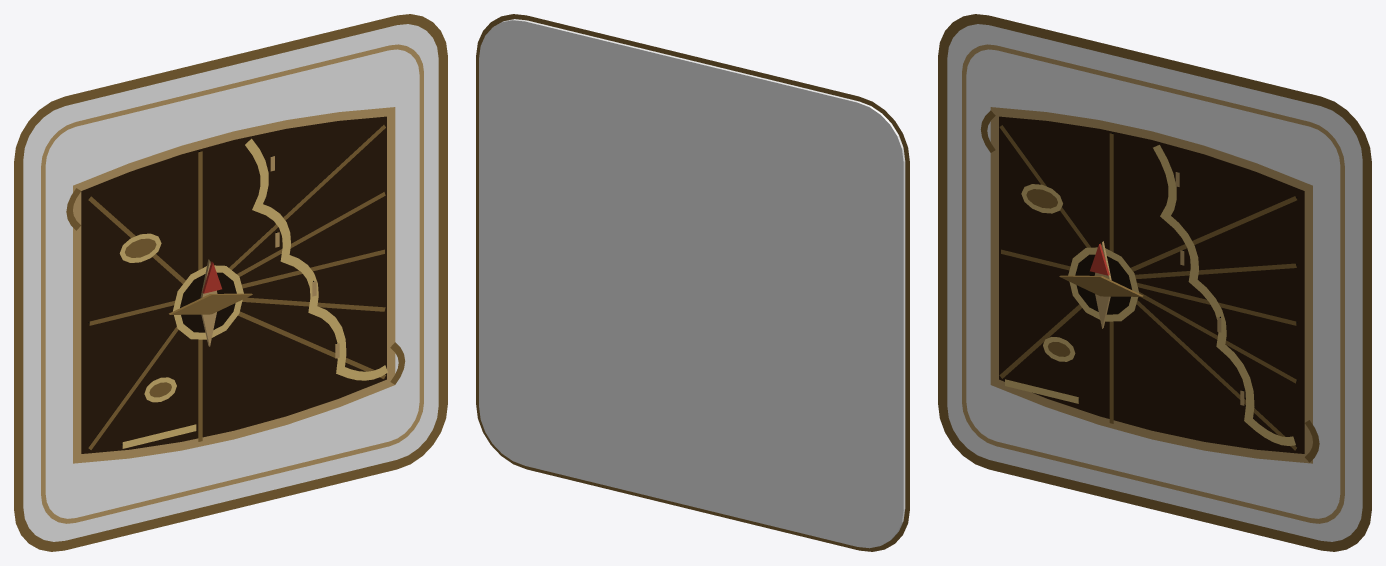
File: obj-portulan.glb
3 views of the same model, side by side, from view 1: azimuth 30°, elevation 25°; view 2: azimuth 150°, elevation 25°; view 3: azimuth 330°, elevation 25° (orthographic).
Parts seen in each view (by area): view 1: obj-portulan; view 2: obj-portulan; view 3: obj-portulan.
Boxes of the visible parts, x1,y1,x2,y2 form: obj-portulan: [14, 14, 447, 551]; obj-portulan: [476, 14, 909, 551]; obj-portulan: [938, 14, 1371, 551].
Size of the model in its own units: 0.3917 by 0.3917 by 0.0351.
